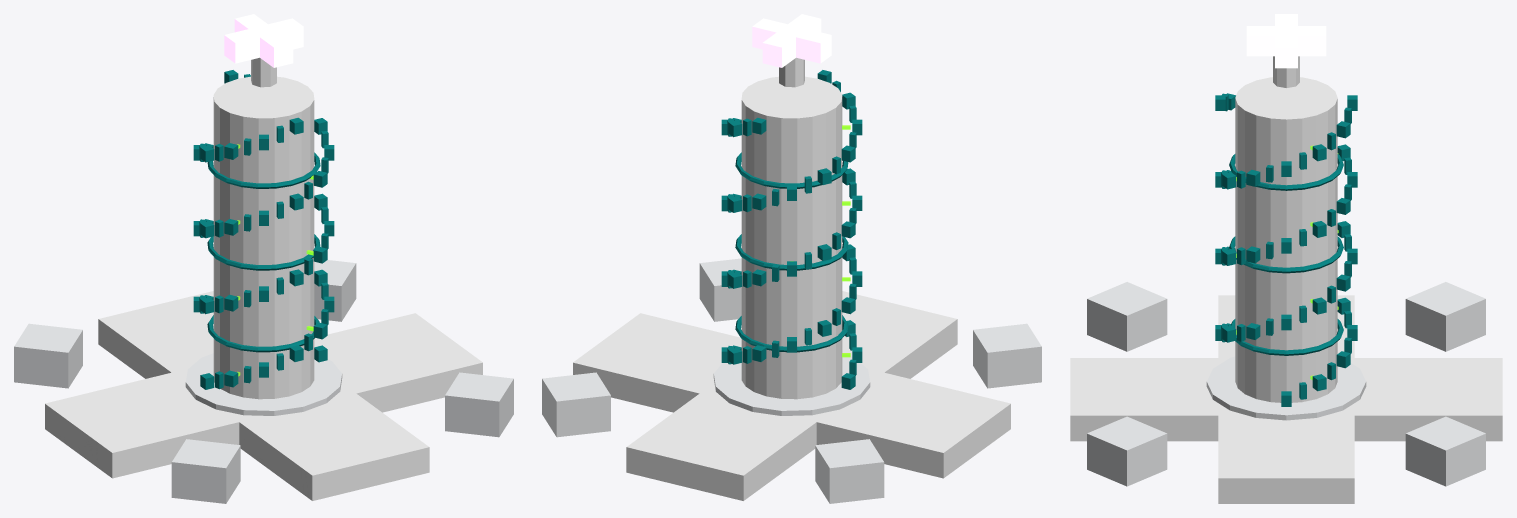
File: uhs_hq.glb
3 renders of one model, left to right at view 1: azimuth 30°, elevation 25°; view 2: azimuth 150°, elevation 25°; view 3: azimuth 270°, elevation 25°, orthographic.
Parts seen in each view (by area): view 1: HS_BioShell, HS_CrossBase_X, HS_CrossBase_Y, HS_CrossHub, HS_NanoShield_3, HS_NanoShield_1, HS_NanoShield_2, HS_NanoShield_0, HS_Crest_X, HS_Crest_Y, HS_BioBand_24, HS_BioBand_16 (+2 smaller); view 2: HS_BioShell, HS_CrossBase_X, HS_CrossBase_Y, HS_NanoShield_1, HS_NanoShield_0, HS_NanoShield_3, HS_CrossHub, HS_NanoShield_2, HS_Crest_X, HS_Crest_Y, HS_BioBand_8, HS_BioBand_16 (+2 smaller); view 3: HS_BioShell, HS_CrossBase_Y, HS_CrossBase_X, HS_NanoShield_0, HS_NanoShield_2, HS_NanoShield_1, HS_NanoShield_3, HS_CrossHub, HS_Crest_Y, HS_Crest_X, HS_BioBand_8, HS_BioBand_16 (+2 smaller).
Part boxes in pixels (box(x1,y1,x2,y2)): HS_BioShell: box(213, 76, 314, 399); HS_CrossBase_X: box(45, 313, 482, 478); HS_CrossBase_Y: box(98, 291, 429, 500); HS_CrossHub: box(185, 353, 342, 415); HS_NanoShield_3: box(171, 439, 240, 503); HS_NanoShield_1: box(14, 323, 82, 388); HS_NanoShield_2: box(445, 372, 513, 437); HS_NanoShield_0: box(314, 260, 356, 321); HS_Crest_X: box(224, 18, 303, 63); HS_Crest_Y: box(234, 14, 293, 67); HS_BioBand_24: box(207, 152, 320, 188); HS_BioBand_16: box(207, 234, 320, 270); HS_BioShell: box(741, 76, 842, 399); HS_CrossBase_X: box(573, 313, 1010, 478); HS_CrossBase_Y: box(626, 291, 957, 500); HS_NanoShield_1: box(815, 439, 884, 503); HS_NanoShield_0: box(542, 372, 610, 437); HS_NanoShield_3: box(973, 323, 1041, 388); HS_CrossHub: box(713, 356, 870, 415); HS_NanoShield_2: box(699, 258, 741, 321); HS_Crest_X: box(752, 18, 831, 63); HS_Crest_Y: box(762, 14, 821, 67); HS_BioBand_8: box(735, 315, 848, 352); HS_BioBand_16: box(735, 234, 848, 270); HS_BioShell: box(1235, 77, 1337, 402); HS_CrossBase_Y: box(1070, 358, 1502, 441); HS_CrossBase_X: box(1218, 295, 1354, 503); HS_NanoShield_0: box(1405, 416, 1485, 486); HS_NanoShield_2: box(1087, 416, 1167, 486); HS_NanoShield_1: box(1405, 282, 1485, 351); HS_NanoShield_3: box(1087, 282, 1167, 351); HS_CrossHub: box(1206, 356, 1366, 420); HS_Crest_Y: box(1246, 26, 1326, 56); HS_Crest_X: box(1275, 14, 1297, 68); HS_BioBand_8: box(1231, 319, 1343, 355); HS_BioBand_16: box(1229, 236, 1343, 273).
Bounding box in the file's own units: 38 × 37 × 38.
